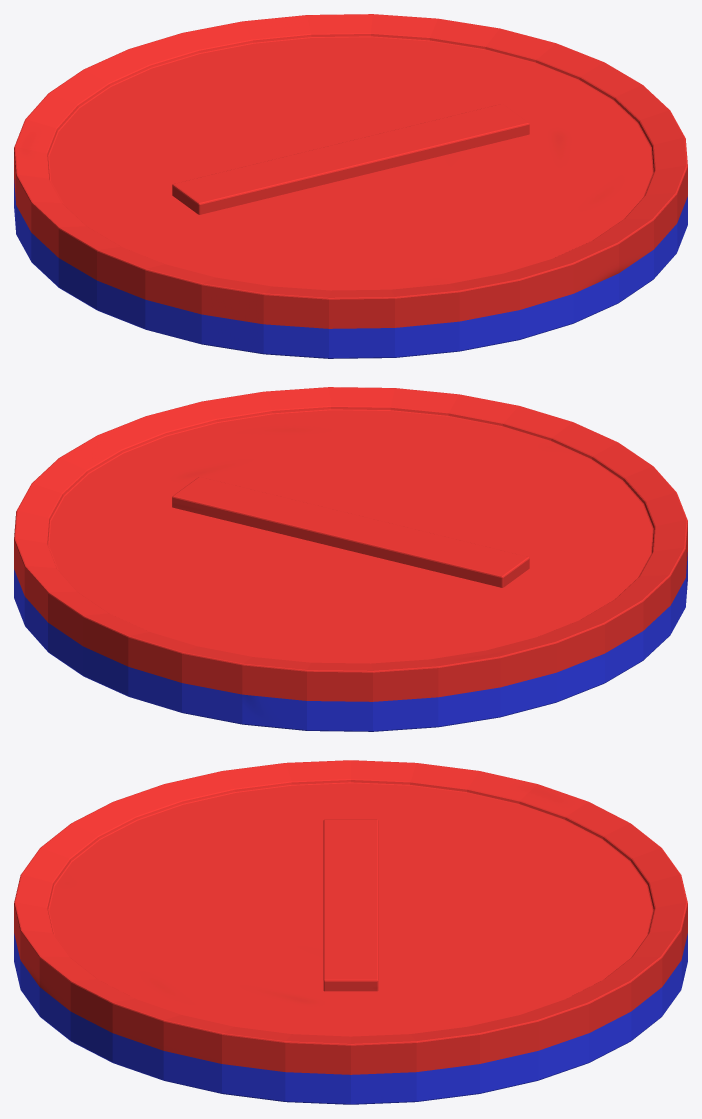
The model's file is coin.fbx.
3 views of the same model, one above another, from view 1: azimuth 30°, elevation 25°; view 2: azimuth 150°, elevation 25°; view 3: azimuth 270°, elevation 25° (orthographic).
Visible parts, largest first — view 1: Cylinder; view 2: Cylinder; view 3: Cylinder.
Boxes of the visible parts, x1=… form: Cylinder: x1=14, y1=14, x2=687, y2=358; Cylinder: x1=14, y1=387, x2=687, y2=731; Cylinder: x1=14, y1=760, x2=687, y2=1104.
Size of the model in its own units: 200 by 22.77 by 200.
